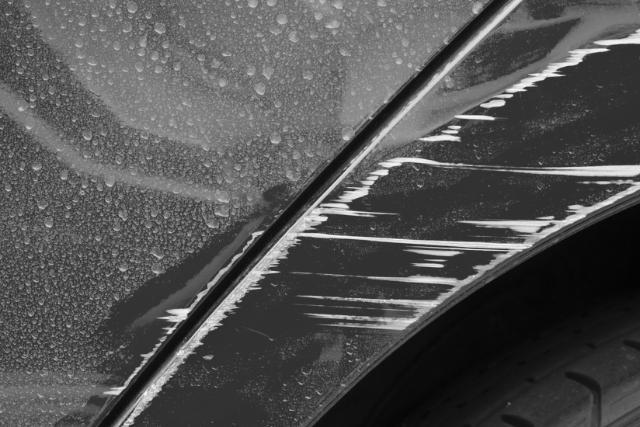Bumper: (98, 0, 640, 427)
